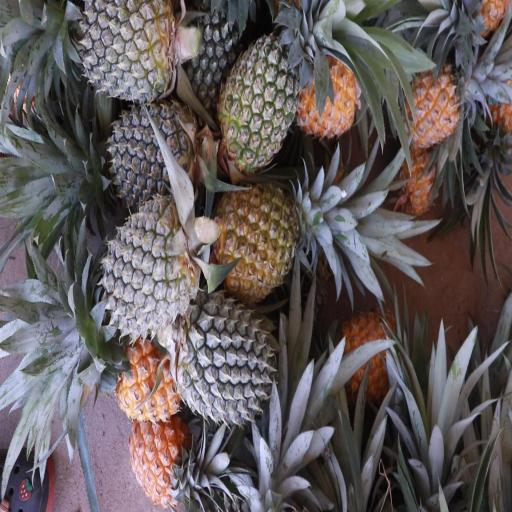------------------------------: (220, 36, 306, 168), (214, 180, 306, 293)
Pineapple - v8 v1: (109, 330, 182, 421), (298, 53, 362, 138), (340, 312, 395, 410), (129, 413, 193, 495), (404, 64, 464, 148)
